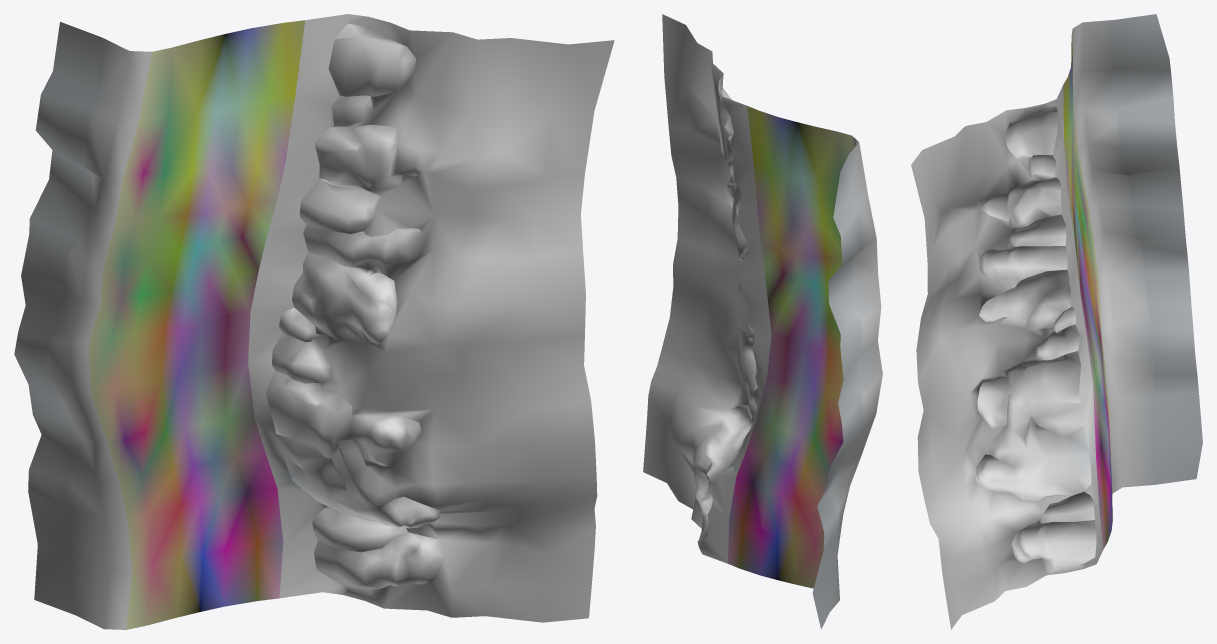
The model's file is Volcano_RampStraightA.glb.
3 views of the same model, side by side, from view 1: azimuth 30°, elevation 25°; view 2: azimuth 150°, elevation 25°; view 3: azimuth 270°, elevation 25° (orthographic). The views are drawn at different scales.
Parts seen in each view (by area): view 1: MeshNode_0, MeshNode_1; view 2: MeshNode_0, MeshNode_1; view 3: MeshNode_0, MeshNode_1.
Boxes of the visible parts, bbox=[...] form: MeshNode_0: bbox=[14, 14, 614, 629]; MeshNode_1: bbox=[88, 20, 305, 629]; MeshNode_0: bbox=[643, 14, 882, 629]; MeshNode_1: bbox=[727, 106, 854, 588]; MeshNode_0: bbox=[911, 14, 1202, 629]; MeshNode_1: bbox=[1063, 29, 1112, 549].
Bounding box in the file's own units: 94.68 × 128 × 72.82.
